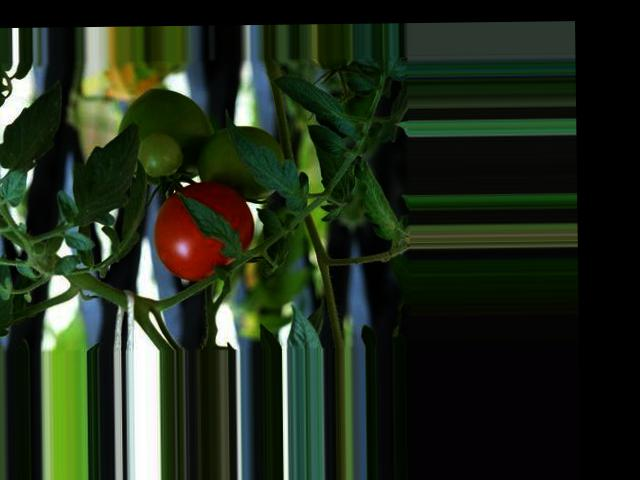tomato: (152, 182, 254, 281)
